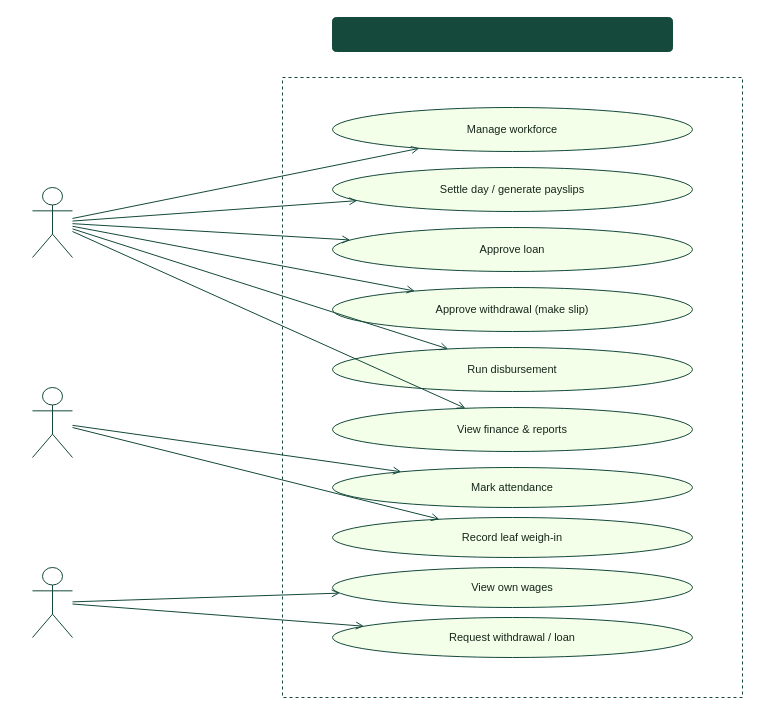
This 760x715 diagram has some shape labels left out. The shapes that lost their labels are listed below. From the top down, each one's box as (x1, y1, x2, y2) in pixels, then its label:
(332, 16, 672, 52): USE CASE DIAGRAM
(32, 186, 72, 258): Administrator
(282, 76, 742, 698): CHA GHOR SYSTEM
(32, 386, 72, 458): Supervisor
(32, 566, 72, 638): Worker
